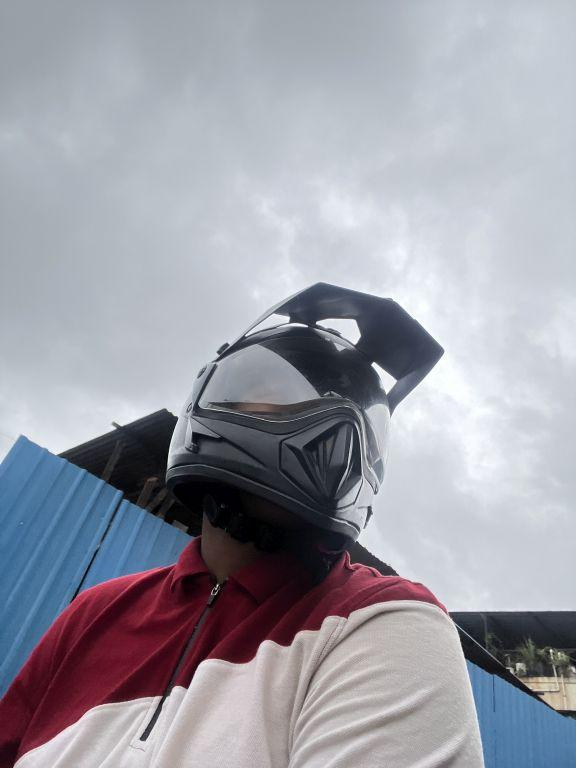helmet: (152, 260, 454, 570)
